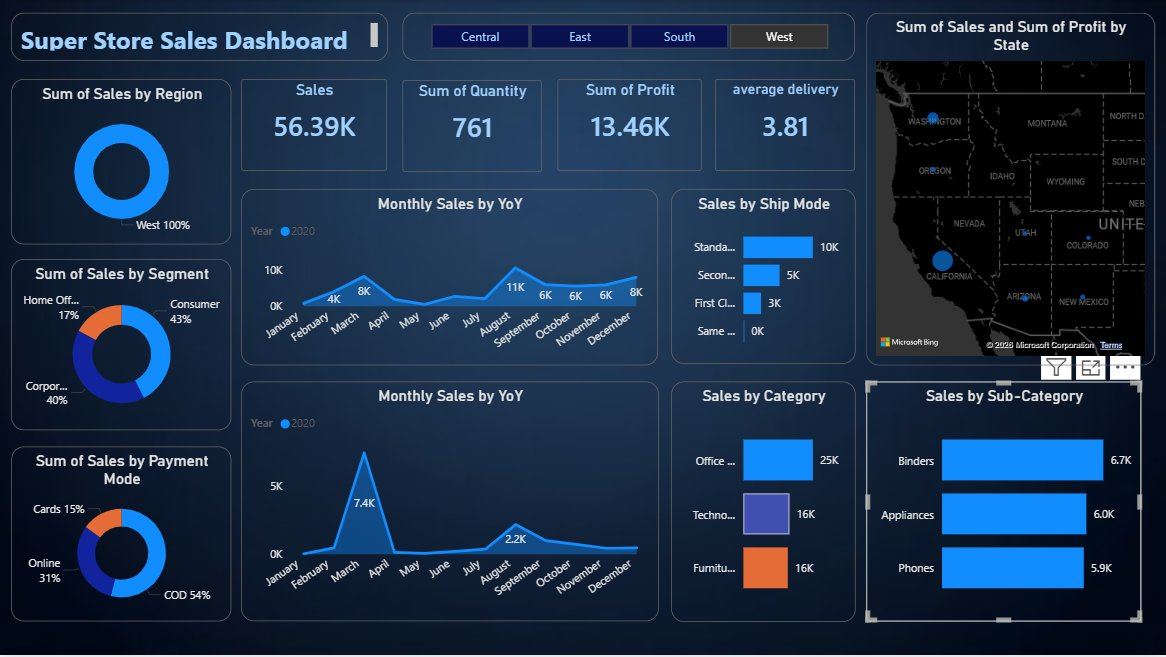

The page's visual inventory and layout, read from the dashboard file:
{"tool":"powerbi","page":{"name":"Page 1","canvas":[1280,720],"ordinal":0},"visuals":[{"type":"clusteredBarChart","title":"Sales by Category","fields":{"Category":["Sheet1.Category"],"Y":["Sum(Sheet1.Sales)"]},"box":[736.2,419.4,202.4,264],"z":0},{"type":"clusteredBarChart","title":"Sales by Sub-Category","fields":{"Category":["Sheet1.Sub-Category"],"Y":["Sum(Sheet1.Sales)"]},"box":[950.3,419.4,302.1,264],"z":1000},{"type":"clusteredBarChart","title":"Sales by Ship Mode","fields":{"Category":["Sheet1.Ship Mode"],"Y":["Sum(Sheet1.Sales)"]},"box":[736.2,208.3,202.4,192.1],"z":2000},{"type":"stackedAreaChart","title":"Monthly Sales by YoY","fields":{"Category":["Sheet1.Order Date.Variation.Date Hierarchy.Month","Sheet1.Order Date.Variation.Date Hierarchy.Day"],"Series":["Sheet1.Order Date.Variation.Date Hierarchy.Year"],"Y":["Sum(Sheet1.Profit)"]},"box":[264.8,419.9,458.3,263.5],"z":3000},{"type":"stackedAreaChart","title":"Monthly Sales by YoY","fields":{"Y":["Sum(Sheet1.Sales)"],"Category":["Sheet1.Order Date.Variation.Date Hierarchy.Month","Sheet1.Order Date.Variation.Date Hierarchy.Day"],"Series":["Sheet1.Order Date.Variation.Date Hierarchy.Year"]},"box":[265.4,208.3,457.6,193.6],"z":4000},{"type":"map","fields":{"Category":["Sheet1.State"],"Size":["Sum(Sheet1.Sales)"]},"box":[950.3,14.7,316.8,387.2],"z":5000},{"type":"donutChart","fields":{"Category":["Sheet1.Segment","Sheet1.Region"],"Y":["Sum(Sheet1.Sales)"]},"box":[11.7,286,242,187.7],"z":6000},{"type":"donutChart","fields":{"Category":["Sheet1.Payment Mode"],"Y":["Sum(Sheet1.Sales)"]},"box":[11.7,491.3,242,192.1],"z":7000},{"type":"slicer","fields":{"Values":["Sheet1.Region"]},"box":[441.4,14.7,497.2,52.8],"z":8000},{"type":"textbox","box":[11.7,14.7,413.6,52.8],"z":9000},{"type":"cardVisual","title":"Sales","fields":{"Data":["Sum(Sheet1.Sales)"]},"box":[265.4,88,159.9,101.2],"z":10000},{"type":"cardVisual","title":"Sum of Profit","fields":{"Data":["Sum(Sheet1.Profit)"]},"box":[611.6,88,158.4,101.2],"z":11000},{"type":"cardVisual","title":"average delivery","fields":{"Data":["Avg(Sheet1.AverageDelivery)"]},"box":[784.6,88,154,101.2],"z":12000},{"type":"cardVisual","title":"Sum of Quantity","fields":{"Data":["Sum(Sheet1.Quantity)"]},"box":[441.4,89.5,152.5,101.2],"z":13000},{"type":"donutChart","fields":{"Category":["Sheet1.Region"],"Y":["Sum(Sheet1.Sales)"]},"box":[11.7,88,242,181.9],"z":14000}]}

Visuals, with their boxes in screenshot pixels (x1, y1, x2, y2), scaled from the page's 1280x720 canvas onto the 1166x657 screenshot:
"Sales by Category" clusteredBarChart: <box>671,383,855,624</box>
"Sales by Sub-Category" clusteredBarChart: <box>866,383,1141,624</box>
"Sales by Ship Mode" clusteredBarChart: <box>671,190,855,365</box>
"Monthly Sales by YoY" stackedAreaChart: <box>241,383,659,624</box>
"Monthly Sales by YoY" stackedAreaChart: <box>242,190,659,367</box>
map - Sheet1.State x Sum(Sheet1.Sales): <box>866,13,1154,367</box>
donutChart - Sheet1.Segment x Sheet1.Region: <box>11,261,231,432</box>
donutChart - Sheet1.Payment Mode x Sum(Sheet1.Sales): <box>11,448,231,624</box>
slicer - Sheet1.Region: <box>402,13,855,62</box>
textbox: <box>11,13,387,62</box>
"Sales" cardVisual: <box>242,80,387,173</box>
"Sum of Profit" cardVisual: <box>557,80,701,173</box>
"average delivery" cardVisual: <box>715,80,855,173</box>
"Sum of Quantity" cardVisual: <box>402,82,541,174</box>
donutChart - Sheet1.Region x Sum(Sheet1.Sales): <box>11,80,231,246</box>
